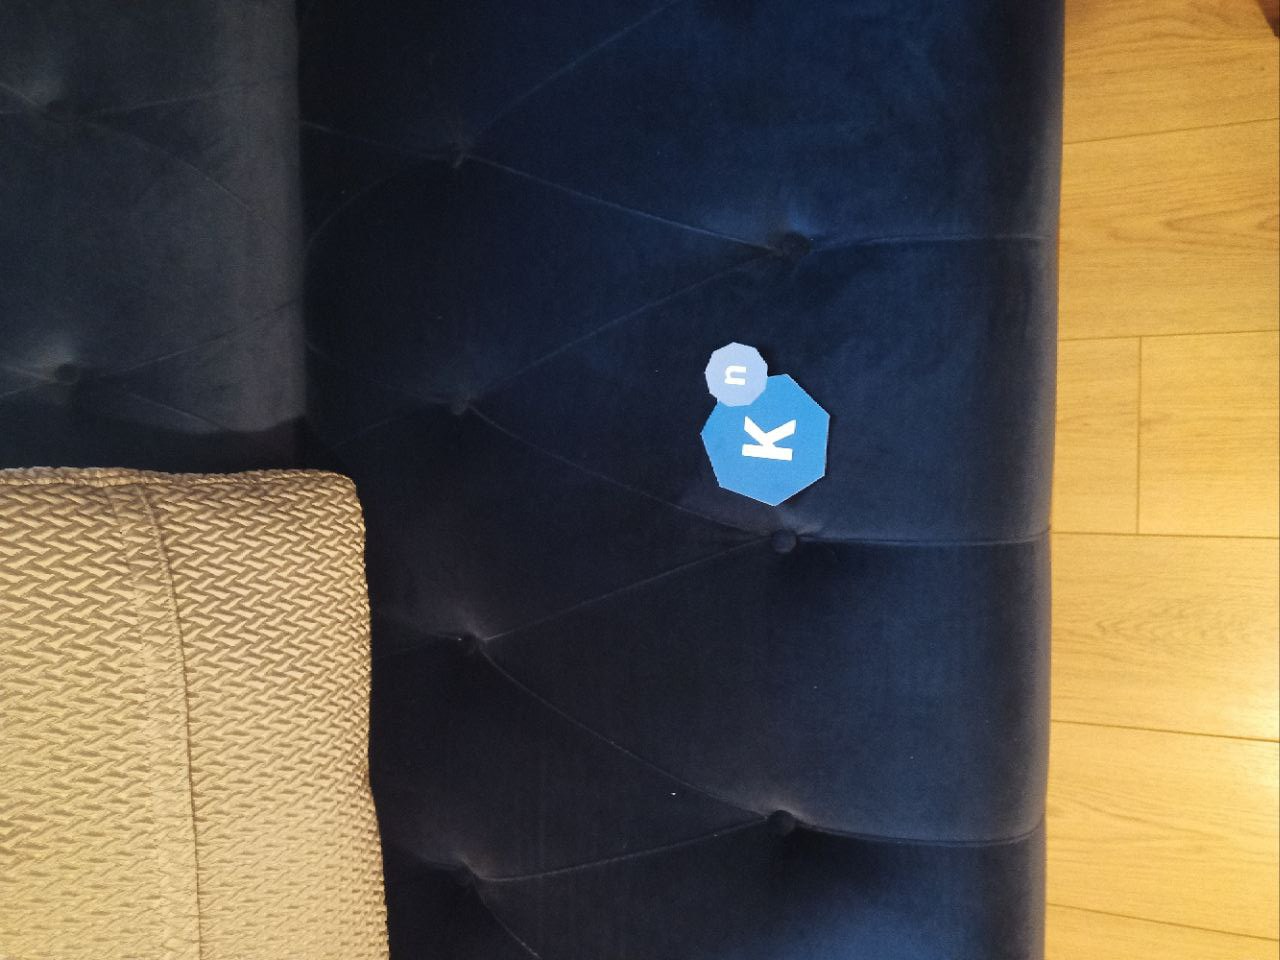knative: (698, 340, 831, 508)
